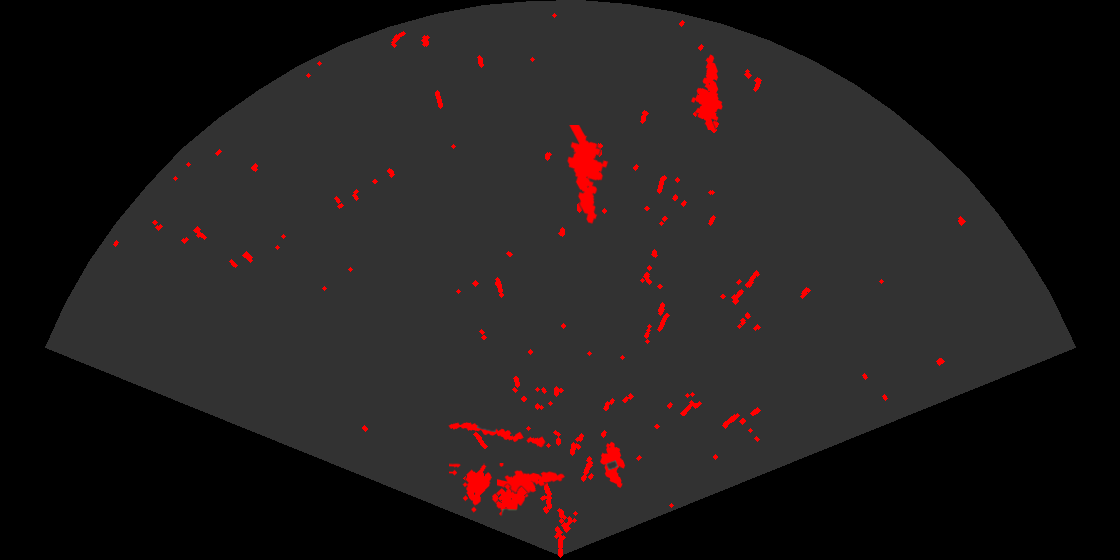AUV: (599, 440, 627, 489)
cage: (449, 463, 529, 517)
chain: (447, 421, 548, 449)
frogman: (565, 125, 610, 226), (690, 53, 724, 130), (497, 468, 566, 500)
